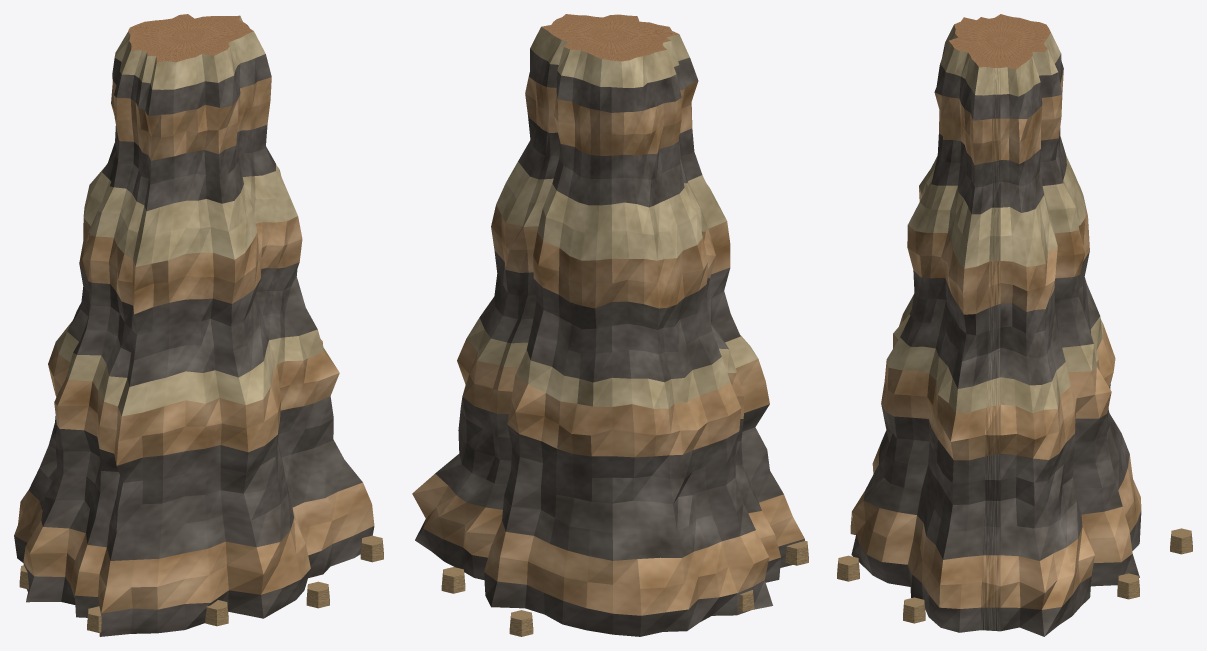
File: ROCK_02_WIND_SPINE.glb
3 views of the same model, side by side, from view 1: azimuth 30°, elevation 25°; view 2: azimuth 150°, elevation 25°; view 3: azimuth 270°, elevation 25° (orthographic). The views are drawn at different scales.
Parts seen in each view (by area): view 1: ROCK_02_WIND_SPINE__ROCK_BODY, ROCK_02_WIND_SPINE__SCATTERED_GRIT_STONES; view 2: ROCK_02_WIND_SPINE__ROCK_BODY, ROCK_02_WIND_SPINE__SCATTERED_GRIT_STONES; view 3: ROCK_02_WIND_SPINE__ROCK_BODY, ROCK_02_WIND_SPINE__SCATTERED_GRIT_STONES.
Boxes of the visible parts, <box> form: ROCK_02_WIND_SPINE__ROCK_BODY: <box>14,14,374,636</box>; ROCK_02_WIND_SPINE__SCATTERED_GRIT_STONES: <box>19,535,383,632</box>; ROCK_02_WIND_SPINE__ROCK_BODY: <box>412,14,804,636</box>; ROCK_02_WIND_SPINE__SCATTERED_GRIT_STONES: <box>441,541,808,636</box>; ROCK_02_WIND_SPINE__ROCK_BODY: <box>851,14,1141,636</box>; ROCK_02_WIND_SPINE__SCATTERED_GRIT_STONES: <box>837,513,1192,623</box>.
Bounding box in the file's own units: 0.7478 × 1.12 × 0.7025.
Materials: 1 (1 with a texture image).
